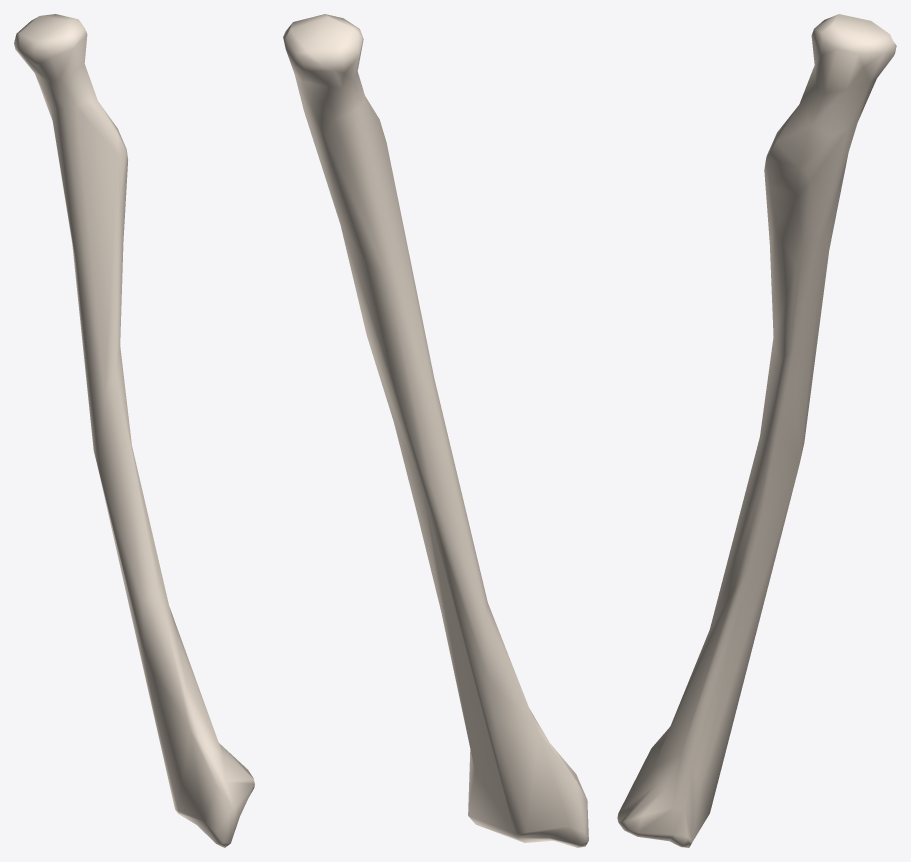
Rendered from right_radius.glb.
The picture shows the model from 3 angles, left to right: view 1: azimuth 90°, elevation 25°; view 2: azimuth 150°, elevation 25°; view 3: azimuth 270°, elevation 25°; orthographic projection. The views are drawn at different scales.
Visible parts, largest first — view 1: Radius.r; view 2: Radius.r; view 3: Radius.r.
Boxes of the visible parts, bbox=[...] form: Radius.r: bbox=[14, 14, 254, 847]; Radius.r: bbox=[283, 14, 588, 847]; Radius.r: bbox=[617, 14, 896, 847].
Size of the model in its own units: 0.0599 by 0.2395 by 0.0692.
